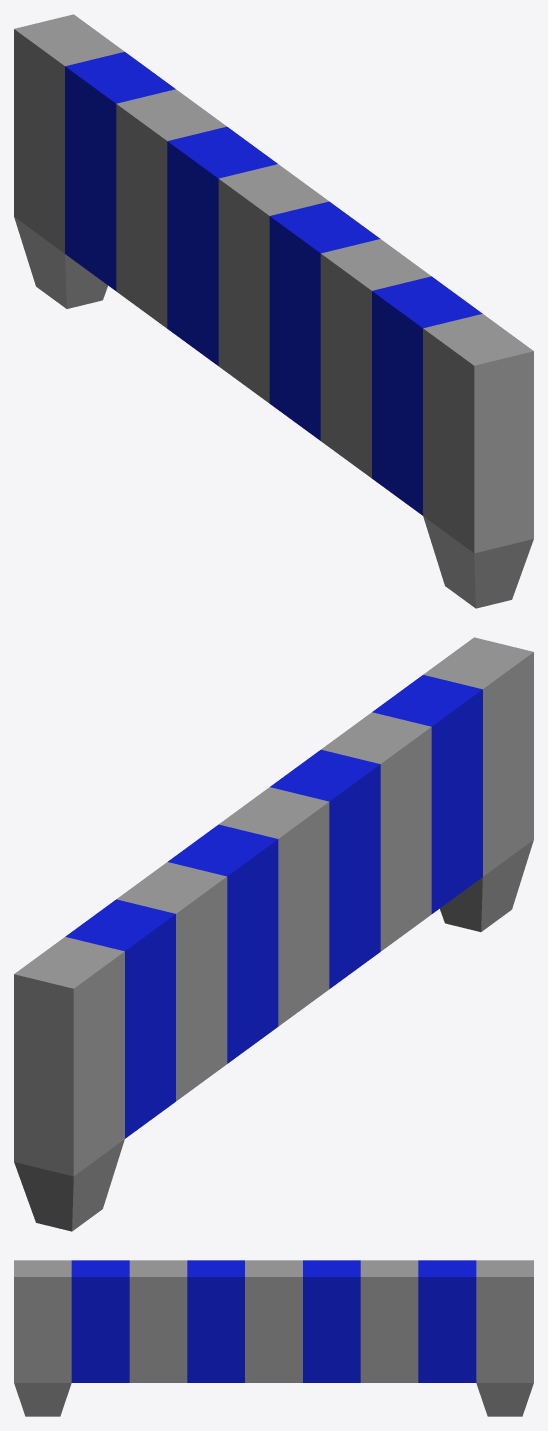
File: RoadBarrierLow.fbx
3 renders of one model, top to bottom at view 1: azimuth 30°, elevation 25°; view 2: azimuth 150°, elevation 25°; view 3: azimuth 270°, elevation 25°, orthographic. The views are drawn at different scales.
Parts seen in each view (by area): view 1: Cube; view 2: Cube; view 3: Cube.
Part boxes in pixels (x1=…): Cube: x1=14, y1=14, x2=533, y2=608; Cube: x1=14, y1=637, x2=533, y2=1231; Cube: x1=14, y1=1260, x2=533, y2=1416.
Size of the model in its own units: 60 by 243 by 800.
